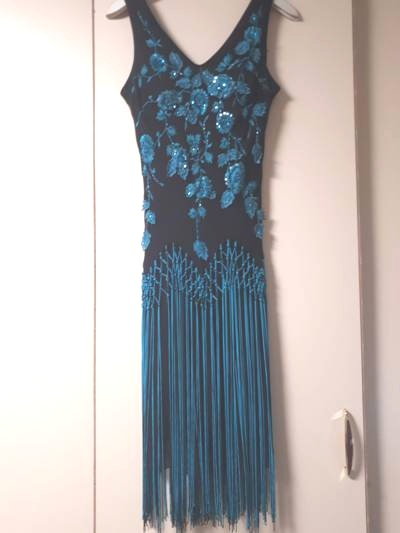Dress: (82, 8, 325, 527)
